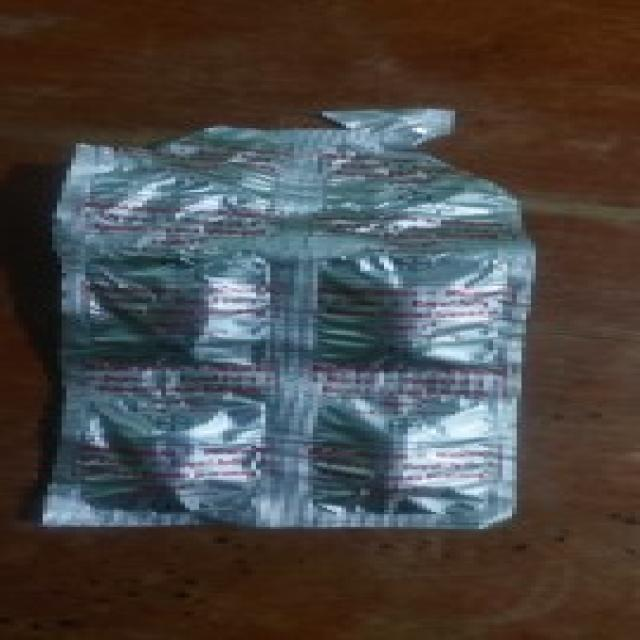Cacat: (21, 102, 522, 531)
Kemasan: (64, 104, 502, 215)
